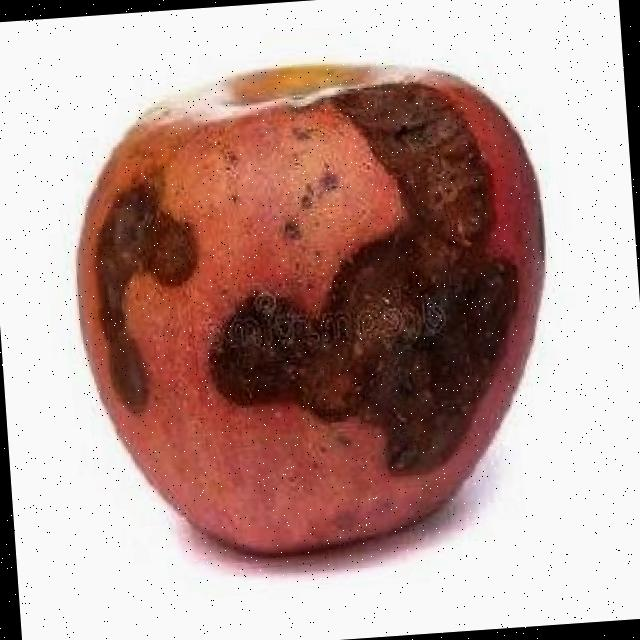rotten apple: (41, 16, 592, 618)
